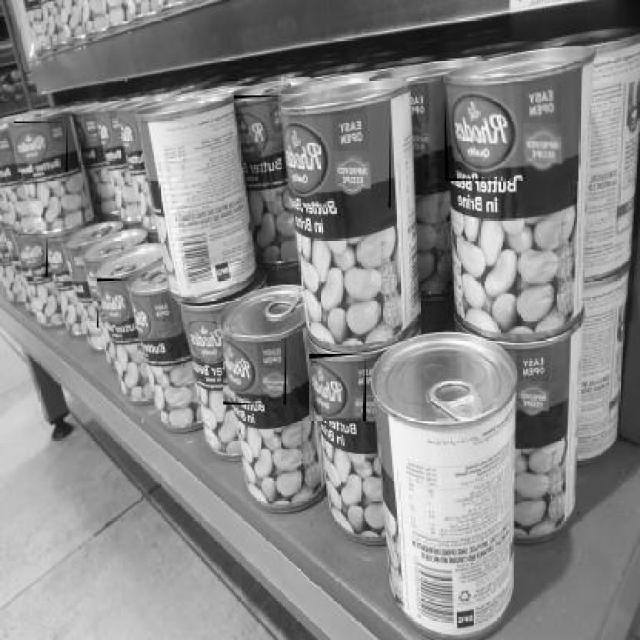Beans: (442, 76, 580, 182), (280, 111, 391, 209), (222, 334, 286, 406), (307, 354, 365, 421), (232, 95, 285, 163), (11, 121, 67, 174), (182, 305, 224, 369), (96, 278, 130, 329), (17, 234, 48, 278)
